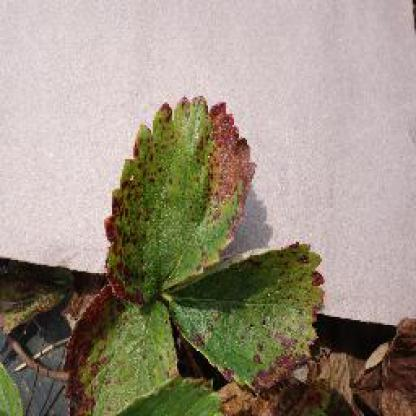leaf scorch: (53, 86, 342, 414)
